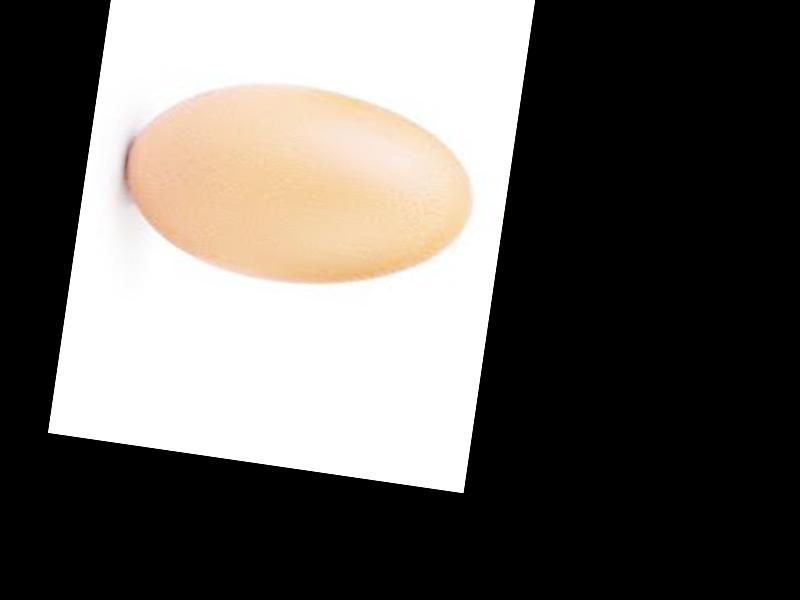Eggs: (113, 65, 485, 306)
